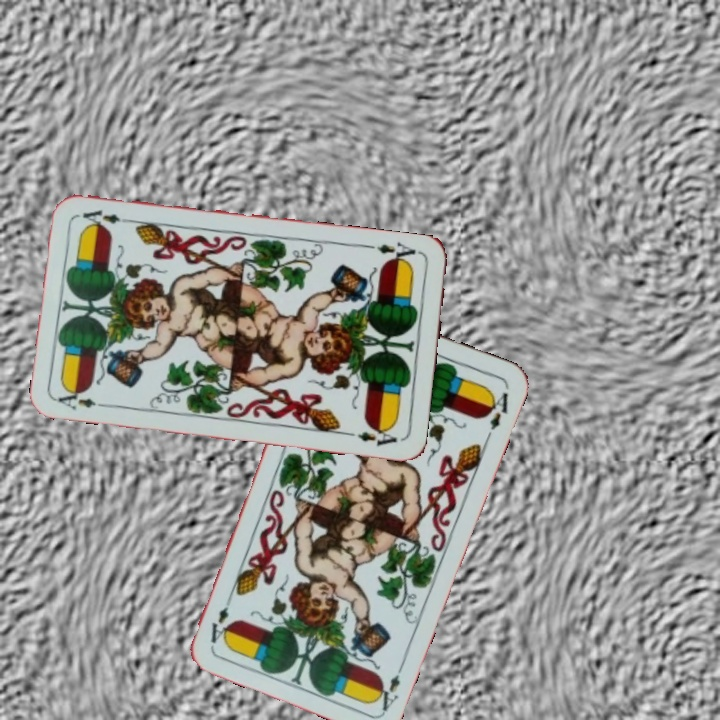EA: (371, 657, 407, 714), (54, 385, 112, 412), (373, 238, 418, 267)
